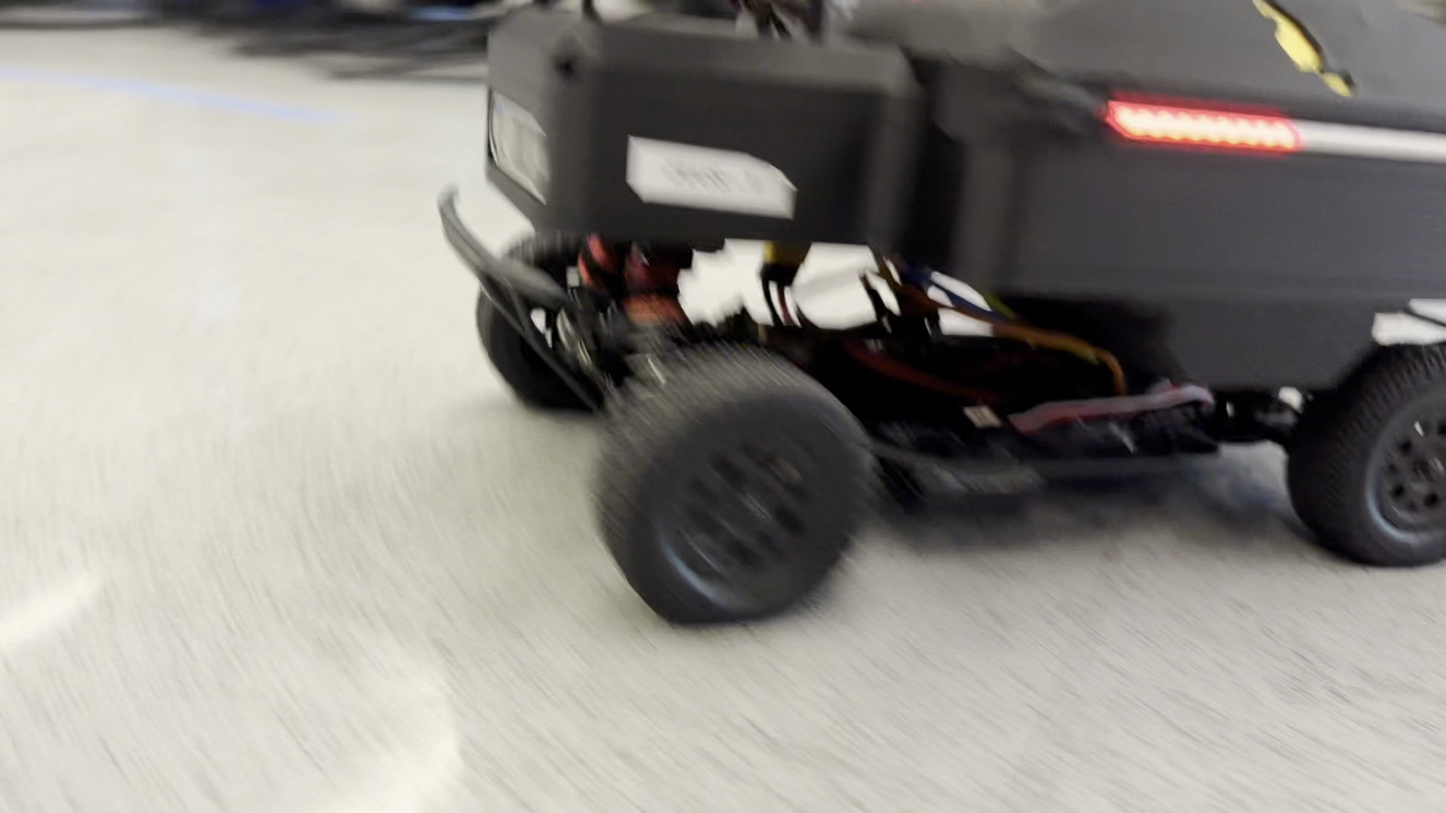racecar: (477, 2, 1446, 626)
